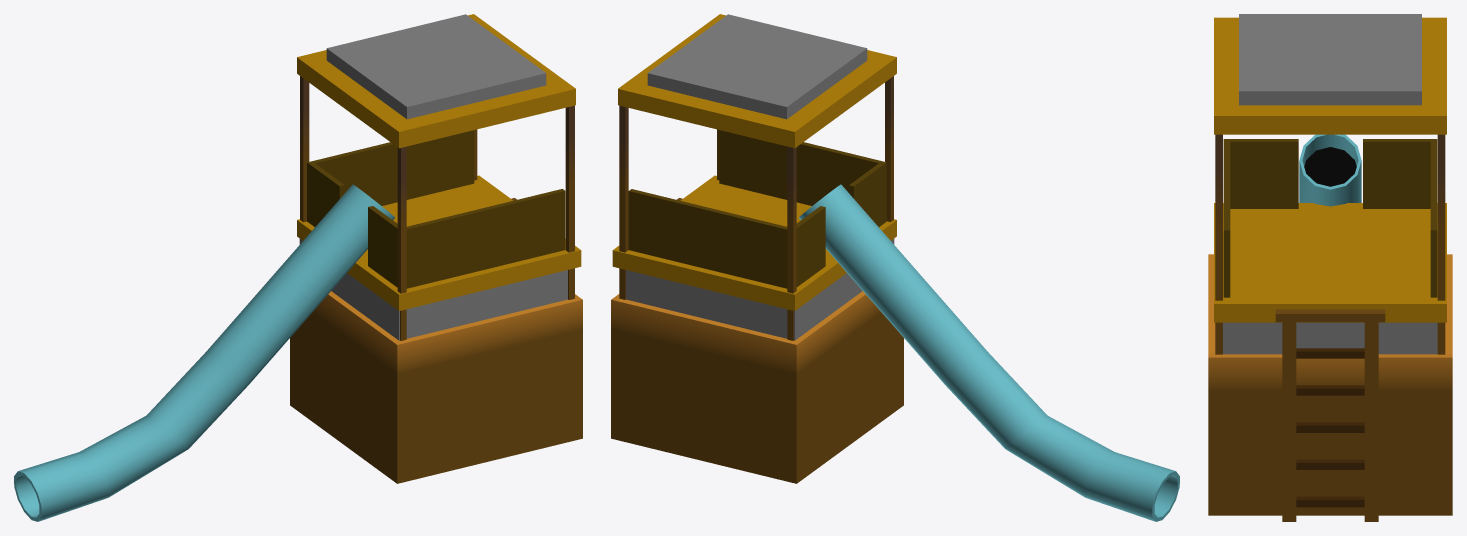
File: slides.fbx
The picture shows the model from 3 angles, left to right: view 1: azimuth 30°, elevation 25°; view 2: azimuth 150°, elevation 25°; view 3: azimuth 270°, elevation 25°; orthographic projection. The views are drawn at different scales.
Parts seen in each view (by area): view 1: slides; view 2: slides; view 3: slides.
Boxes of the visible parts, x1,y1,x2,y2 form: slides: (14,14,582,521); slides: (611,14,1179,521); slides: (1208,14,1452,521).
Size of the model in its own units: 3135 by 2109 by 1130.
